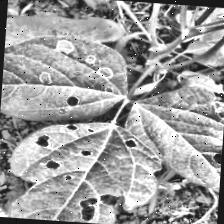ALS: (2, 114, 164, 224), (125, 87, 224, 206), (0, 35, 131, 121)
